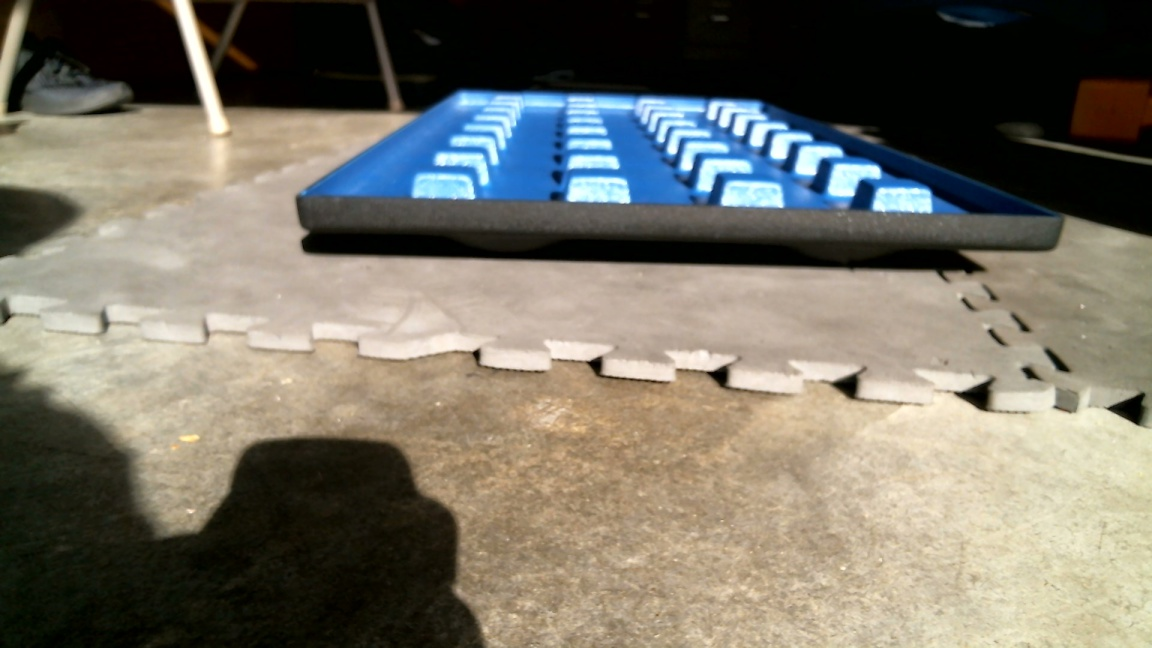blue_foundation: (286, 70, 1061, 286)
